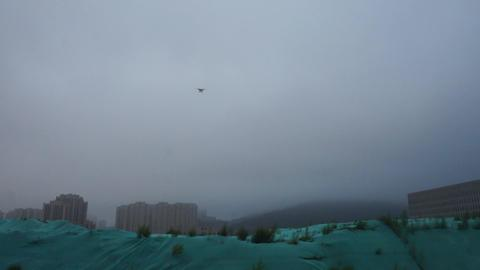UAV: (198, 88, 205, 94)
